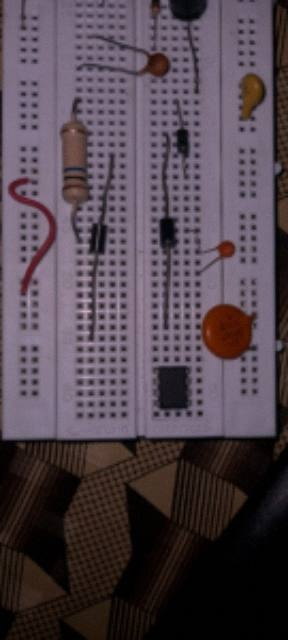capacitor: (200, 303, 253, 359), (240, 72, 265, 124), (147, 53, 168, 78), (217, 240, 236, 260)
resistor: (60, 122, 90, 203)
